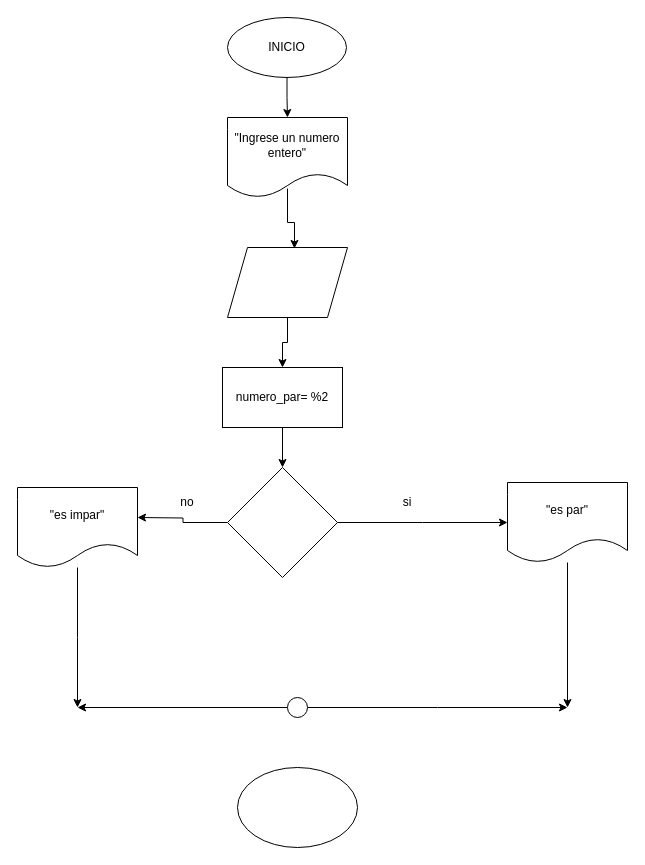
This 645x865 diagram has some shape labels left out. The centre of each missing label's shape, as x and y in pixels:
"Fin" belongs at (x=297, y=807).
"numero" belongs at (x=287, y=282).
"numero_par == 0" belongs at (x=282, y=522).
